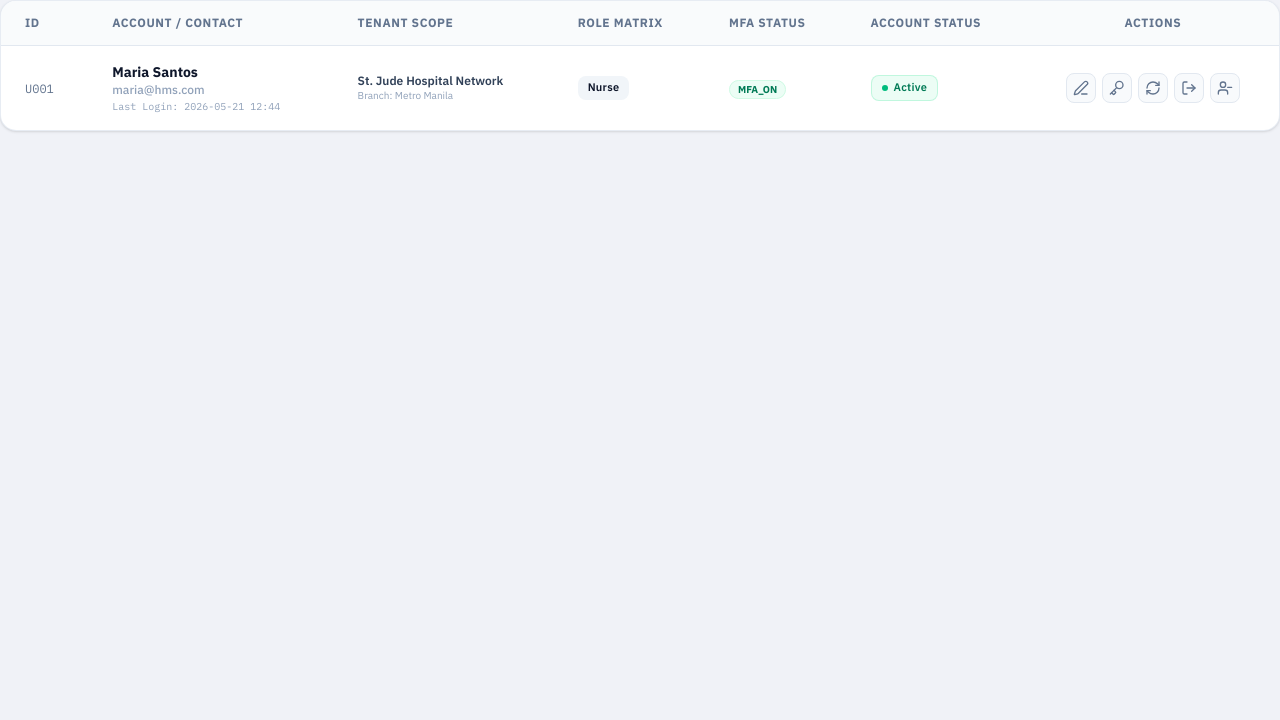
it: UserAccessTable privileged-action tests › edit_role with no changes shows no-changes outcome
Click the button titled "Edit Roles & Scopes" at (1081, 88), box [1066,73,1096,103]
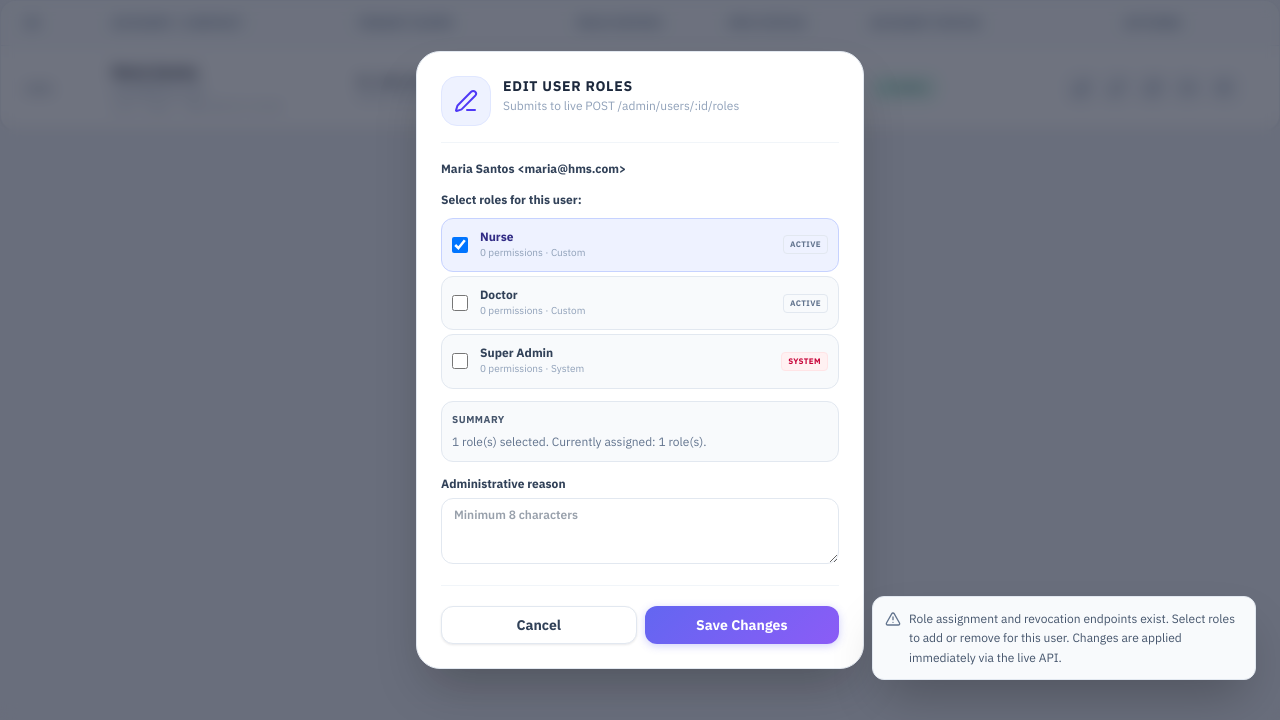
Type "Quarterly role review" into the text box with placeholder "Minimum 8 characters" at (640, 531), box [441,498,839,564]
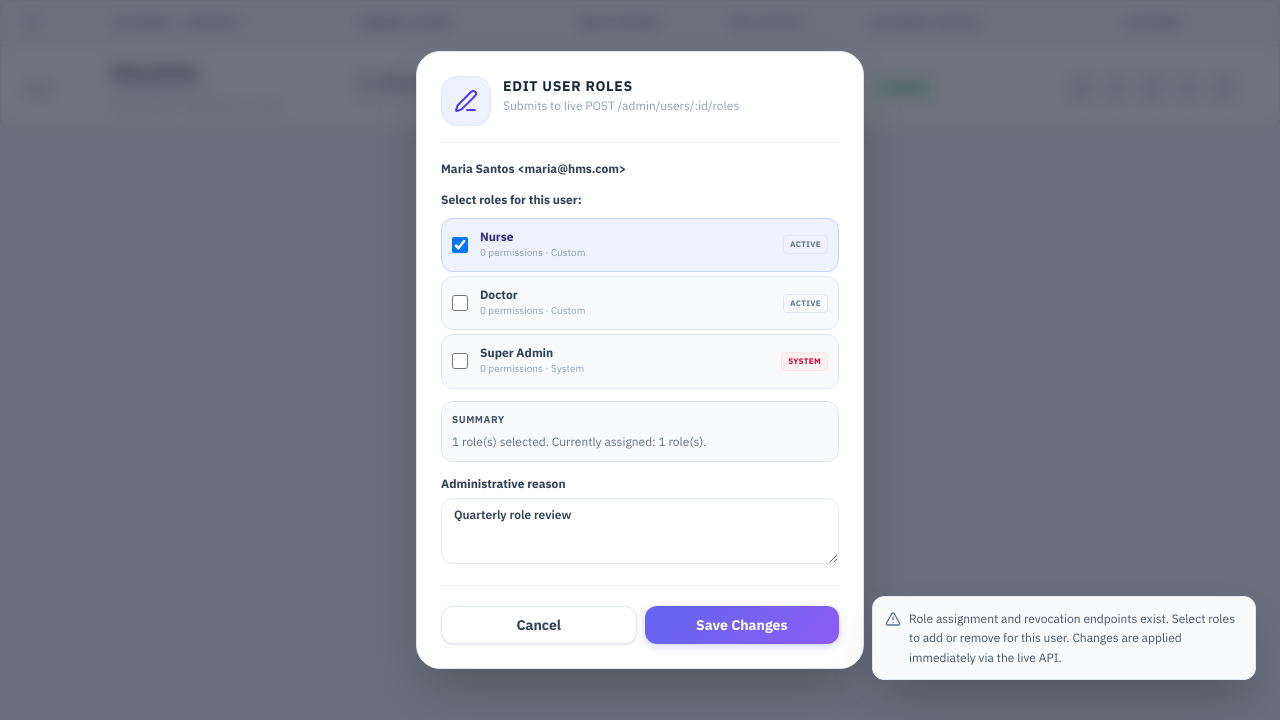
Click the button "Save Changes" at (742, 625), box [644,606,839,644]
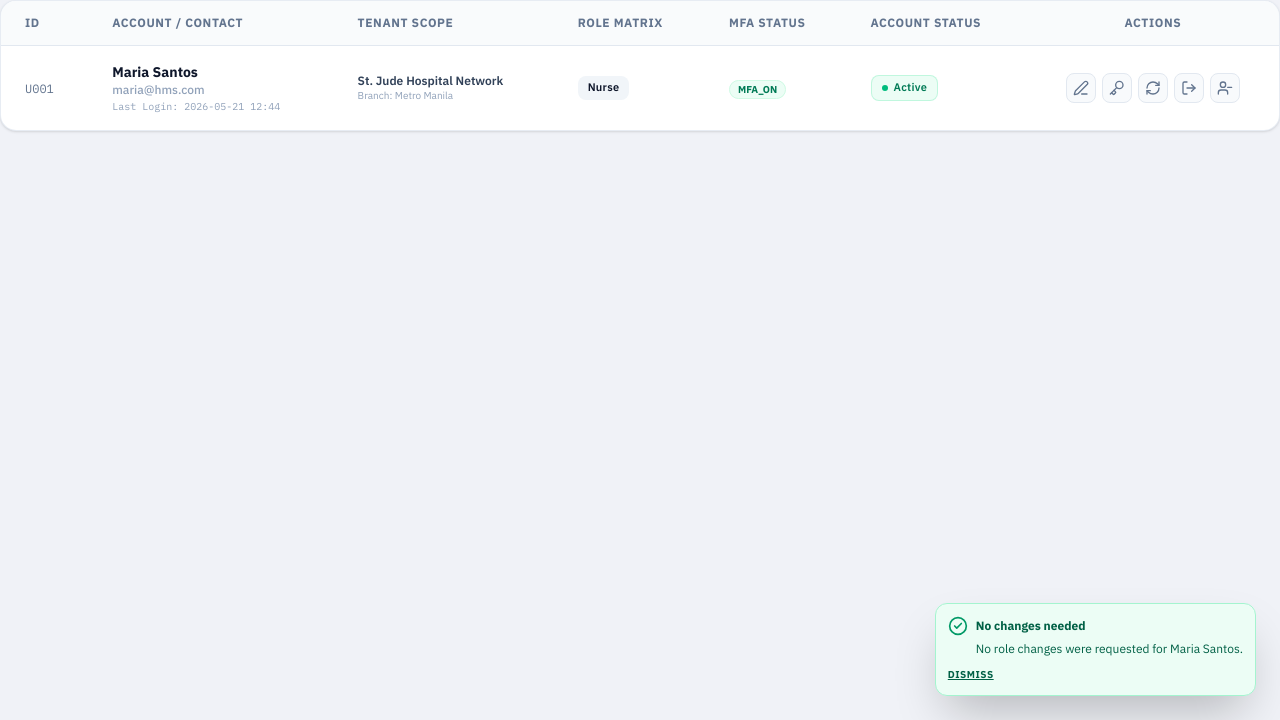
expect the element with test id "useraccess-outcome" shows "No role changes": met, box [976,641,1243,656]
